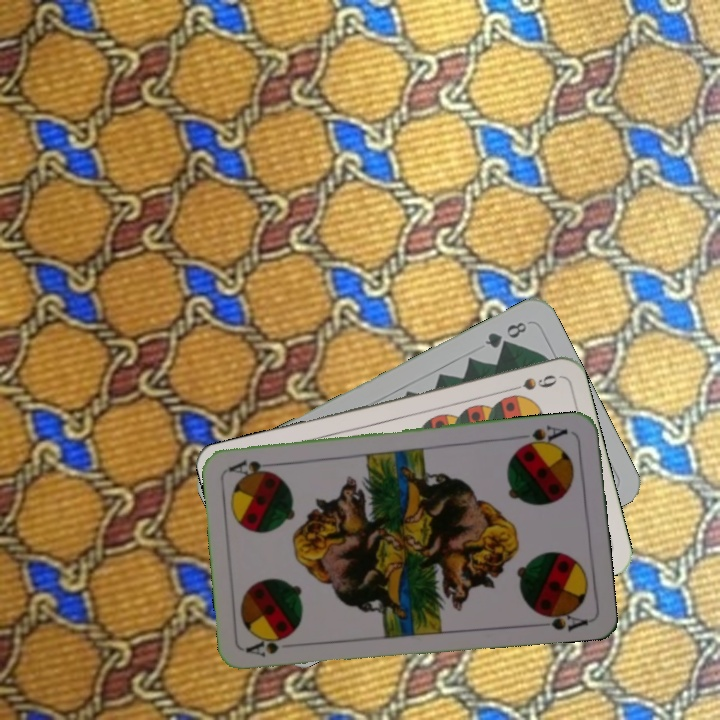G8: (480, 317, 530, 351)
S9: (502, 370, 560, 395)
SA: (515, 421, 571, 451), (242, 631, 296, 660)
